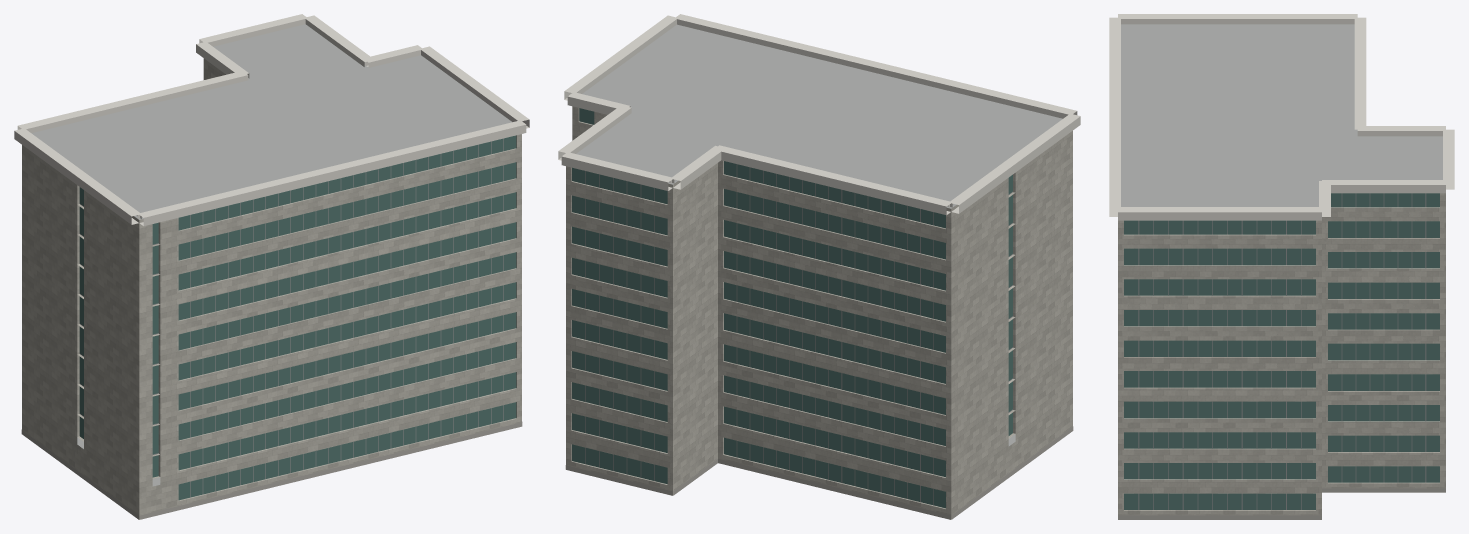
The picture shows the model from 3 angles, left to right: view 1: azimuth 30°, elevation 25°; view 2: azimuth 150°, elevation 25°; view 3: azimuth 270°, elevation 25°; orthographic projection. The views are drawn at different scales.
Visible parts, largest first — view 1: facultyOffice__wall, facultyOffice__glass, facultyOffice__roof, facultyOffice__trim, facultyOffice__frame, facultyOffice__base; view 2: facultyOffice__wall, facultyOffice__glass, facultyOffice__roof, facultyOffice__trim, facultyOffice__frame, facultyOffice__base; view 3: facultyOffice__glass, facultyOffice__wall, facultyOffice__roof, facultyOffice__trim, facultyOffice__frame, facultyOffice__base.
Part boxes in pixels (x1,y1,x2,y2): facultyOffice__wall: (22, 58, 521, 519); facultyOffice__glass: (79, 135, 516, 500); facultyOffice__roof: (32, 24, 512, 486); facultyOffice__trim: (14, 14, 529, 226); facultyOffice__frame: (79, 138, 503, 497); facultyOffice__base: (21, 422, 522, 519); facultyOffice__wall: (566, 106, 1072, 519); facultyOffice__glass: (572, 108, 1012, 508); facultyOffice__roof: (576, 24, 1062, 446); facultyOffice__trim: (558, 14, 1080, 215); facultyOffice__frame: (585, 164, 1012, 505); facultyOffice__base: (565, 426, 1073, 519); facultyOffice__glass: (1124, 193, 1439, 509); facultyOffice__wall: (1118, 193, 1445, 515); facultyOffice__roof: (1121, 24, 1442, 206); facultyOffice__trim: (1109, 14, 1454, 220); facultyOffice__frame: (1138, 193, 1426, 509); facultyOffice__base: (1118, 488, 1445, 519).
Size of the model in its own units: 47.23 by 34.6 by 34.8.
Materials: 6 (1 with a texture image).
